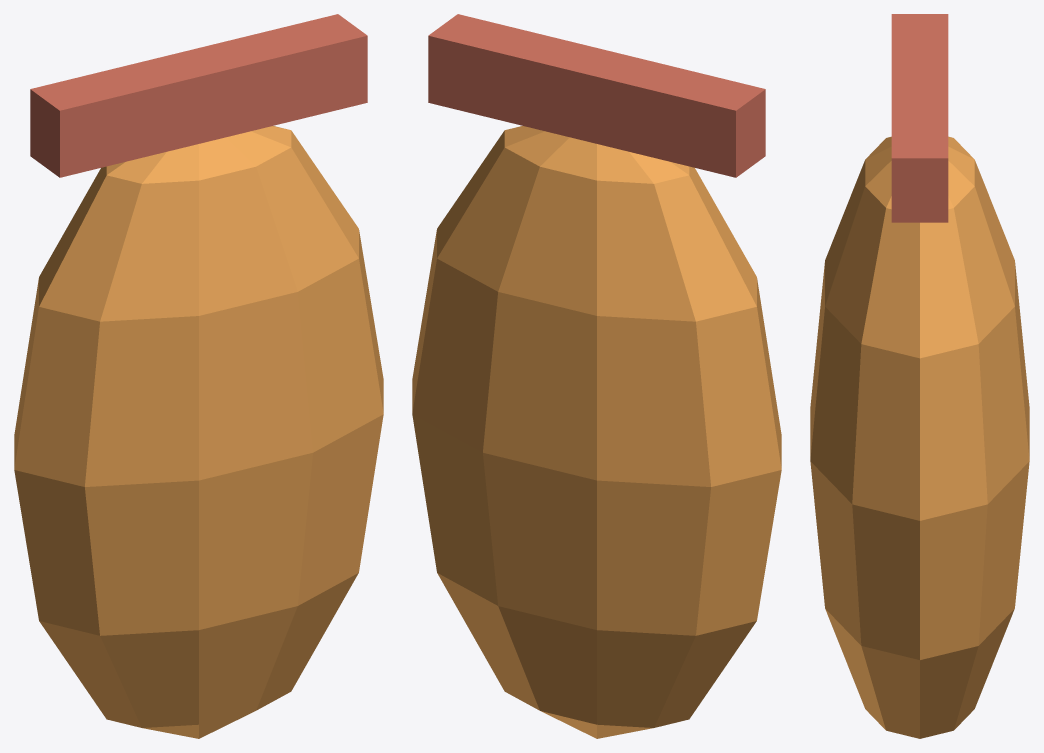
Rendered from supermarket-operations-pasta-bag-9217eae2__26858.glb.
The picture shows the model from 3 angles, left to right: view 1: azimuth 30°, elevation 25°; view 2: azimuth 150°, elevation 25°; view 3: azimuth 270°, elevation 25°; orthographic projection. The views are drawn at different scales.
Visible parts, largest first — view 1: pasta-bag; view 2: pasta-bag; view 3: pasta-bag.
Part boxes in pixels (bbox=[...]): pasta-bag: bbox=[14, 14, 383, 738]; pasta-bag: bbox=[412, 14, 781, 738]; pasta-bag: bbox=[810, 14, 1029, 738].
Size of the model in its own units: 0.144 by 0.252 by 0.077.
